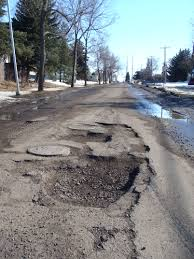pothole: (24, 155, 145, 216), (145, 96, 190, 128), (56, 125, 113, 147), (99, 113, 143, 141)
